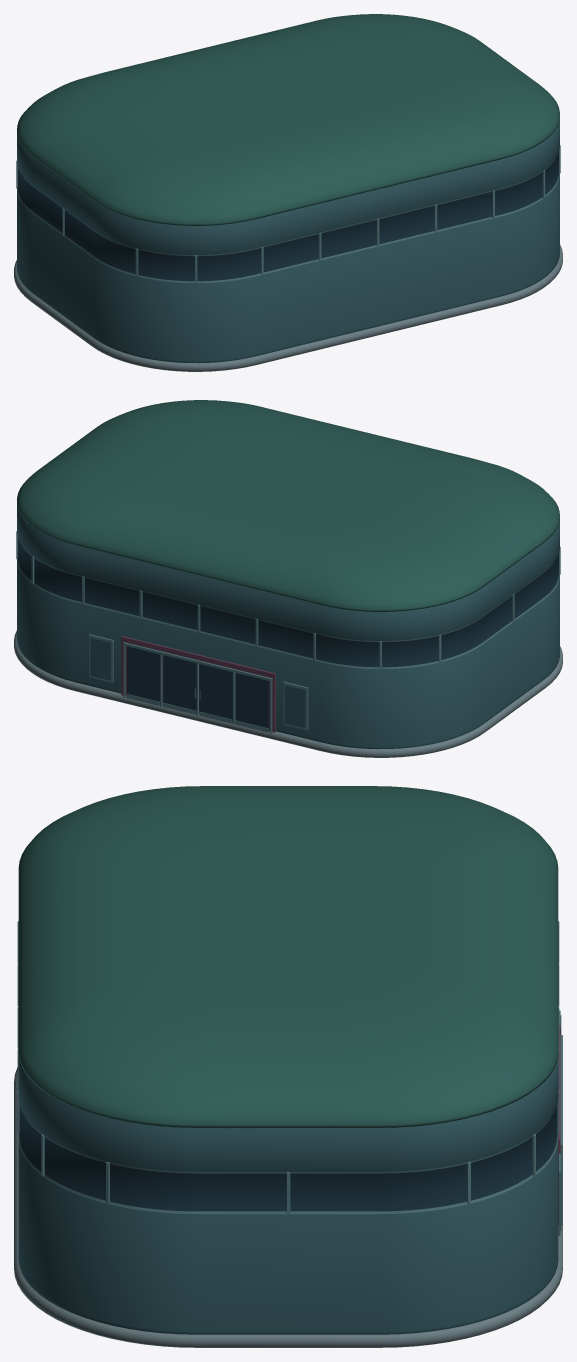
The model's file is d06_entertainment_hall_01.glb.
3 renders of one model, top to bottom at view 1: azimuth 30°, elevation 25°; view 2: azimuth 150°, elevation 25°; view 3: azimuth 270°, elevation 25°, orthographic. The views are drawn at different scales.
Visible parts, largest first — view 1: D06EntertainmentHall01_Mesh; view 2: D06EntertainmentHall01_Mesh; view 3: D06EntertainmentHall01_Mesh.
Part boxes in pixels (box(x1,y1,x2,y2)): D06EntertainmentHall01_Mesh: box(14, 14, 562, 371); D06EntertainmentHall01_Mesh: box(14, 400, 562, 757); D06EntertainmentHall01_Mesh: box(14, 786, 562, 1347).
Size of the model in its own units: 26 by 9.6 by 18.
